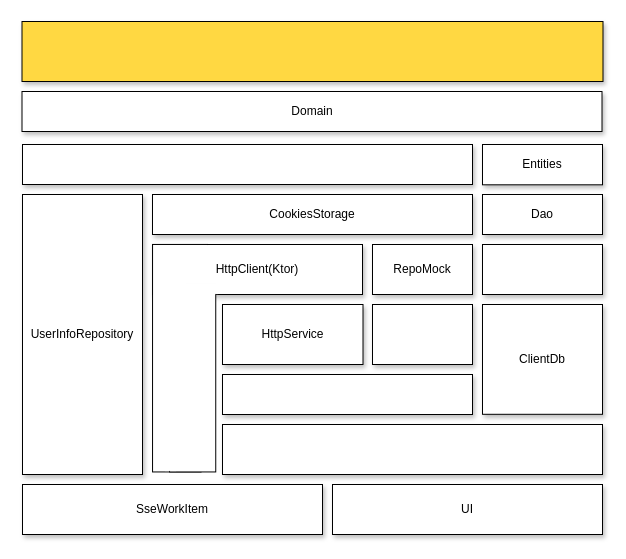
The diagram is 626 pixels wide and 559 high, and some of its shapes have lost their labels. The shapes that lost their labels are listed below. From the top down, each one's centre as x and y in pixels, then its label:
[313,52]: Chimp - App
[248,166]: DataStore<Preferences>
[543,271]: ChImpClientDB
[423,336]: MockService
[348,396]: Service
[413,451]: Repository
